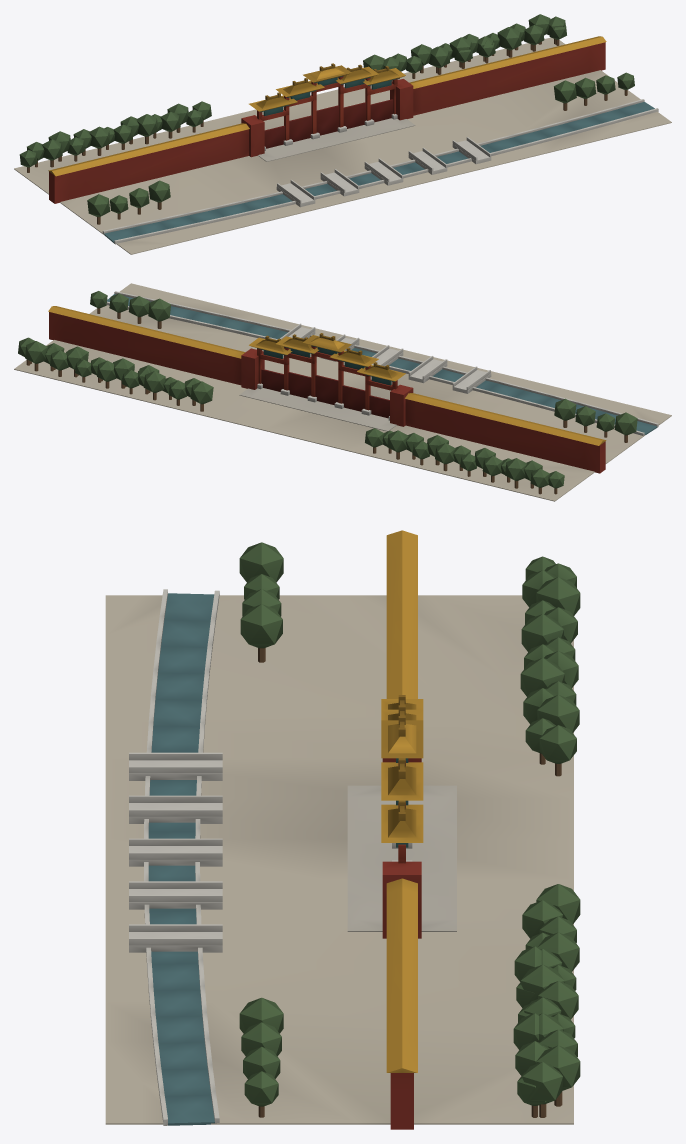
The model's file is chengtianmen-1450.glb.
The picture shows the model from 3 angles, top to bottom: view 1: azimuth 30°, elevation 25°; view 2: azimuth 150°, elevation 25°; view 3: azimuth 270°, elevation 25°; orthographic projection. The views are drawn at different scales.
Visible parts, largest first — view 1: p0_walls, p2_trees, p1_gateway; view 2: p0_walls, p2_trees, p1_gateway; view 3: p0_walls, p2_trees, p1_gateway.
Part boxes in pixels (x1,y1,x2,y2): p0_walls: [14, 36, 671, 254]; p2_trees: [19, 14, 634, 224]; p1_gateway: [249, 63, 405, 150]; p0_walls: [14, 283, 671, 501]; p2_trees: [18, 291, 637, 494]; p1_gateway: [249, 333, 405, 420]; p0_walls: [105, 530, 573, 1129]; p2_trees: [239, 542, 580, 1117]; p1_gateway: [381, 695, 423, 863].
Size of the model in its own units: 163 by 19.5 by 60.83.
